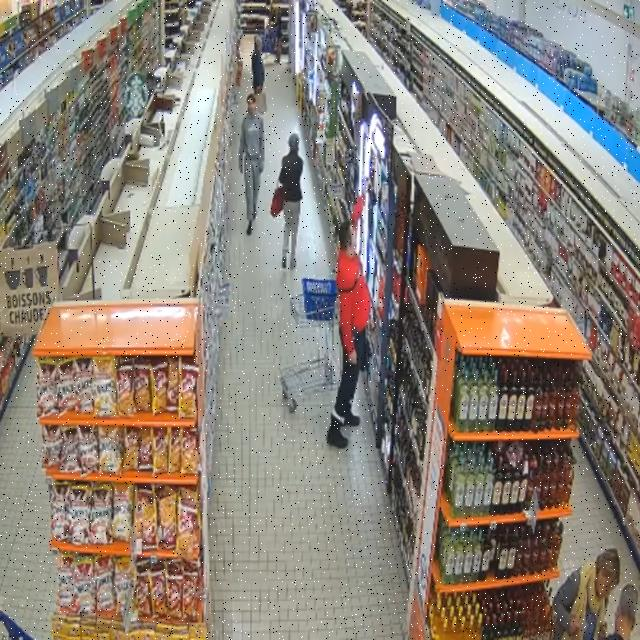article: (368, 190, 378, 205)
bags: (271, 187, 284, 217), (257, 91, 267, 114)
hands: (569, 616, 580, 635), (598, 623, 607, 639), (348, 350, 356, 365), (367, 180, 374, 194), (255, 85, 263, 94), (259, 163, 264, 174), (239, 161, 243, 174)
person: (327, 222, 370, 448), (553, 549, 620, 639), (278, 133, 304, 269), (239, 95, 264, 235), (607, 585, 638, 639), (252, 36, 265, 94)
